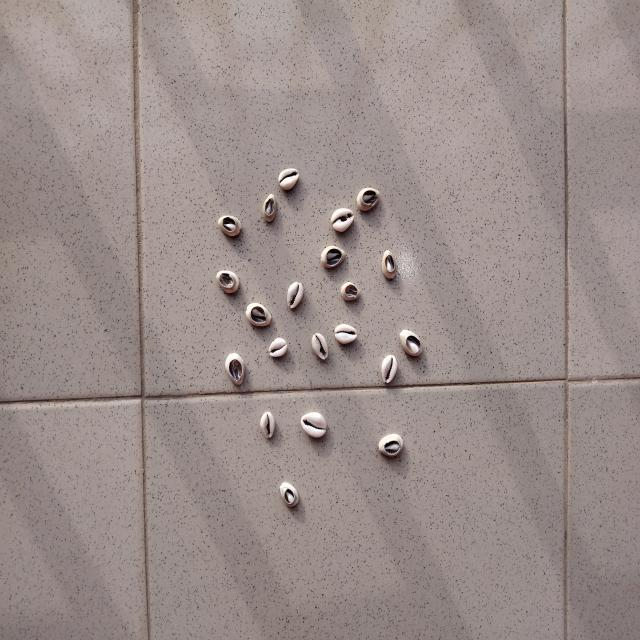facedown: (398, 327, 424, 358), (224, 353, 248, 385), (378, 432, 405, 460), (245, 301, 272, 327), (356, 184, 380, 213), (278, 480, 300, 511), (319, 245, 346, 269), (218, 213, 242, 238), (216, 269, 240, 294), (381, 248, 398, 281), (261, 194, 278, 222), (341, 280, 362, 302)
faceup: (300, 410, 328, 440), (330, 207, 355, 233), (379, 354, 399, 386), (277, 166, 301, 192), (310, 331, 330, 361), (334, 322, 358, 346), (286, 281, 305, 309), (259, 408, 275, 441), (269, 337, 288, 360)
